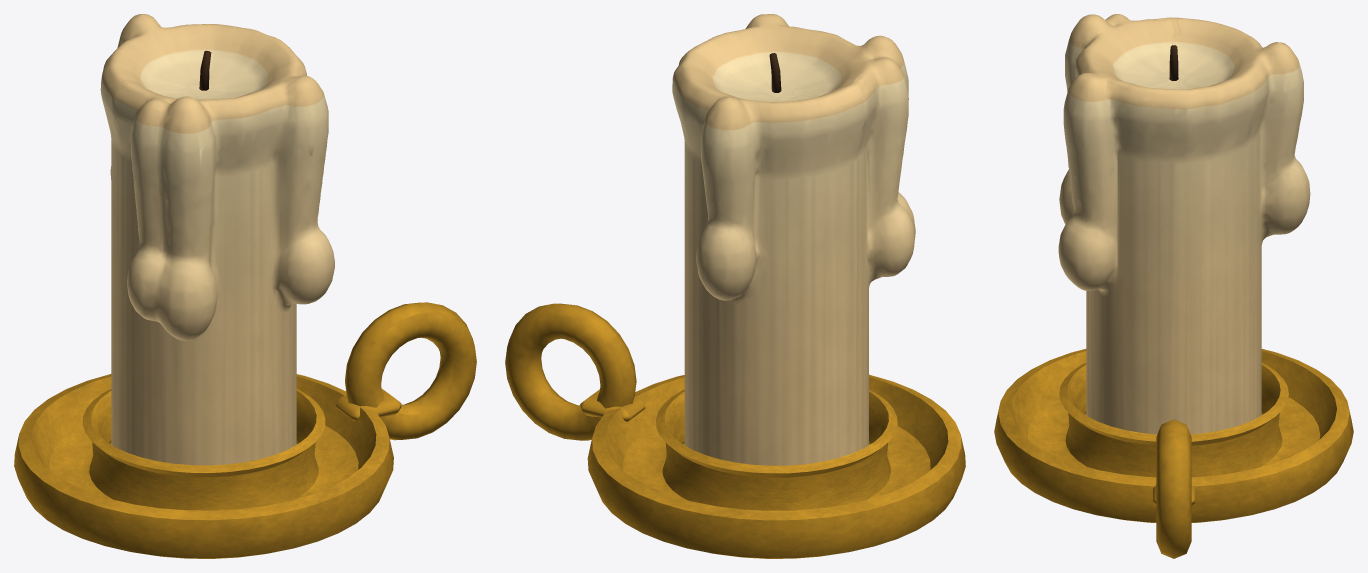
File: candle.glb
3 renders of one model, left to right at view 1: azimuth 30°, elevation 25°; view 2: azimuth 150°, elevation 25°; view 3: azimuth 270°, elevation 25°, orthographic. The views are drawn at different scales.
Parts seen in each view (by area): view 1: model; view 2: model; view 3: model.
Boxes of the visible parts, x1=… form: model: x1=14, y1=14, x2=476, y2=558; model: x1=505, y1=14, x2=965, y2=558; model: x1=994, y1=14, x2=1353, y2=558.
Bounding box in the file's own units: 0.2275 × 0.2186 × 0.172.
3 materials, 2 textured.
